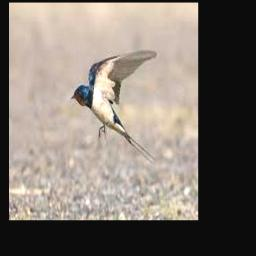Swallow: (71, 49, 157, 162)
